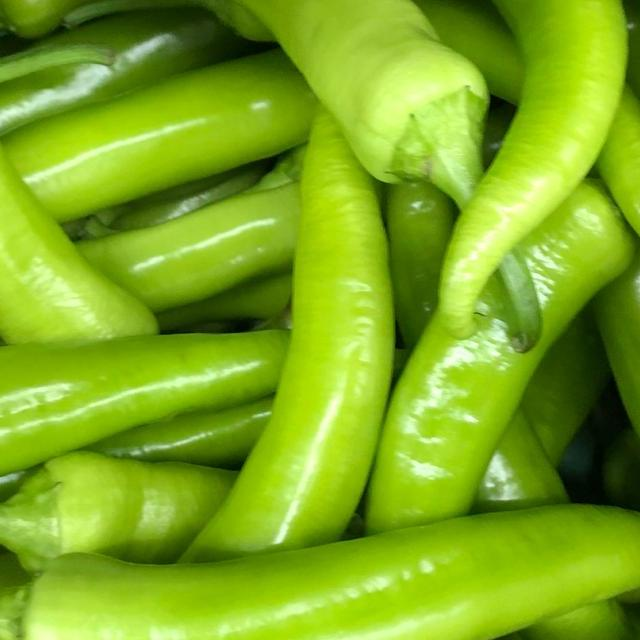chili_pepper: (200, 0, 635, 340), (0, 485, 640, 640)
